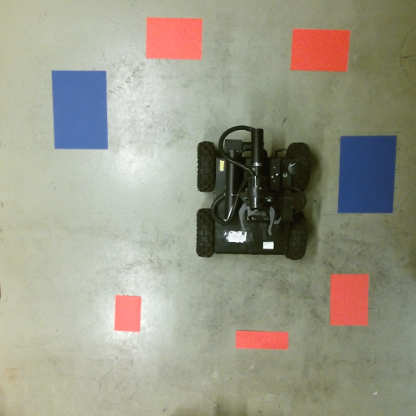Blue: (49, 68, 110, 152), (337, 134, 396, 215)
Jaguar: (192, 124, 313, 262)
Red: (288, 26, 350, 74), (144, 15, 204, 61), (330, 273, 370, 329), (233, 329, 289, 351), (112, 294, 143, 332)
